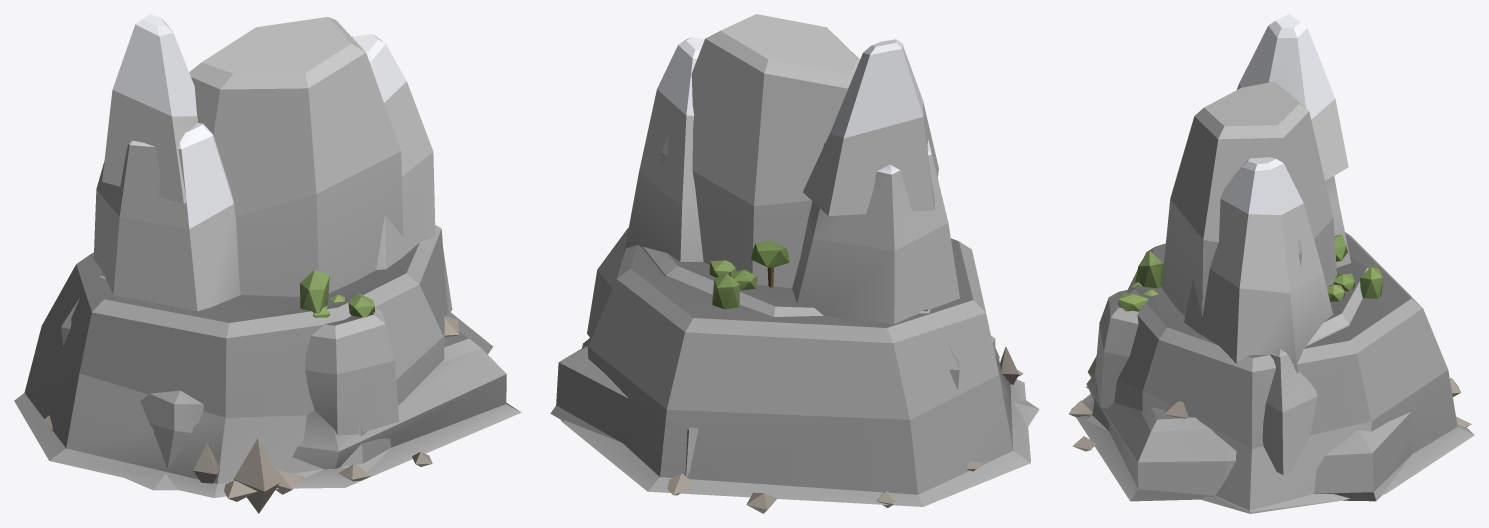
File: crag-1.glb
The picture shows the model from 3 angles, left to right: view 1: azimuth 30°, elevation 25°; view 2: azimuth 150°, elevation 25°; view 3: azimuth 270°, elevation 25°; orthographic projection. The views are drawn at different scales.
Parts seen in each view (by area): view 1: SaddleBase, SaddleBlock, CragPeak, CragBase, CragHorn, CragLedge, CragPeakB, SaddleScree3, SaddleShrub2, SaddleScree4; view 2: SaddleBase, SaddleBlock, CragPeak, CragHorn, CragPeakB, CragBase, CragStepA, SaddleShrub1, CragCrown8; view 3: SaddleBase, CragPeakB, SaddleBlock, CragBase, CragHorn, CragStepA, CragLedge, SaddleShrub2, CragPeak, SaddleShrub1.
Part boxes in pixels (x1,y1,x2,y2): SaddleBase: [14, 225, 493, 497]; SaddleBlock: [189, 17, 403, 296]; CragPeak: [93, 123, 240, 311]; CragBase: [125, 331, 521, 490]; CragHorn: [102, 14, 198, 203]; CragLedge: [305, 307, 399, 434]; CragPeakB: [352, 34, 435, 269]; SaddleScree3: [233, 438, 280, 513]; SaddleShrub2: [300, 270, 329, 313]; SaddleScree4: [193, 444, 219, 483]; SaddleBase: [561, 238, 1030, 506]; SaddleBlock: [660, 14, 859, 288]; CragPeak: [792, 140, 959, 324]; CragHorn: [803, 39, 938, 215]; CragPeakB: [624, 37, 704, 261]; CragBase: [550, 335, 1039, 477]; CragStepA: [587, 228, 959, 389]; SaddleShrub1: [712, 273, 739, 309]; CragCrown8: [751, 241, 789, 267]; SaddleBase: [1085, 232, 1474, 513]; CragPeakB: [1184, 157, 1332, 373]; SaddleBlock: [1161, 81, 1336, 317]; CragBase: [1071, 373, 1412, 501]; CragHorn: [1237, 14, 1348, 180]; CragStepA: [1262, 257, 1368, 474]; CragLedge: [1095, 290, 1138, 408]; SaddleShrub2: [1135, 251, 1163, 288]; CragPeak: [1325, 176, 1351, 267]; SaddleShrub1: [1360, 267, 1382, 298].
Size of the model in its own units: 1.88 by 1.72 by 1.67.
